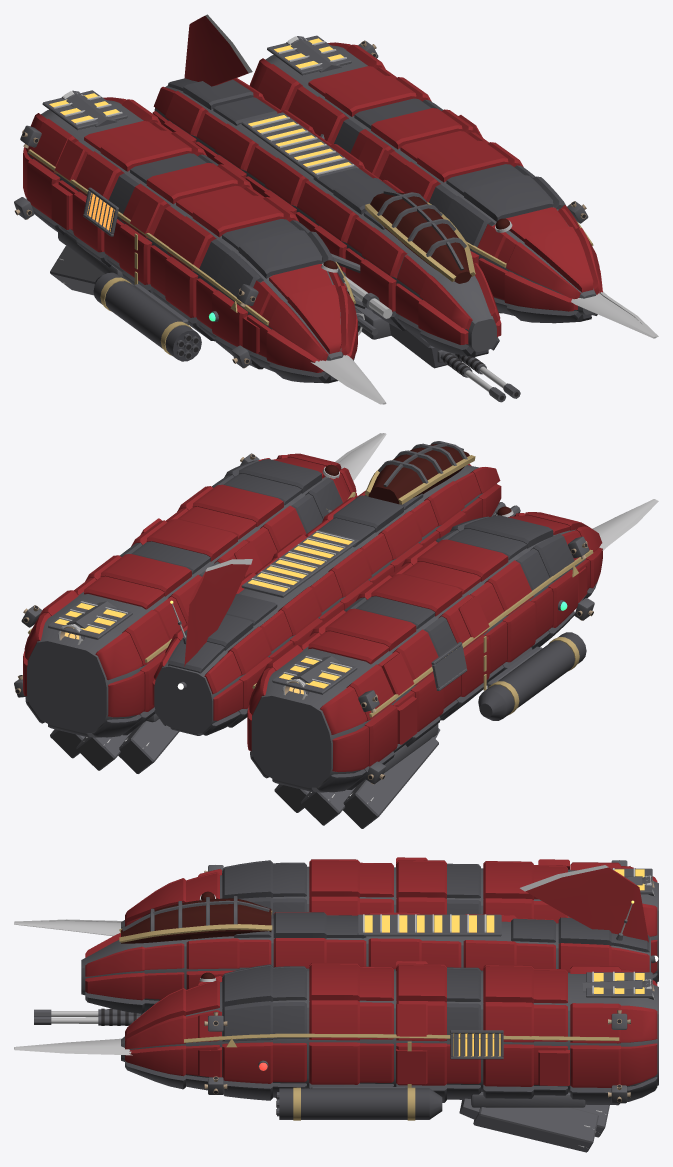
Rendered from enemy_fighter.glb.
3 renders of one model, top to bottom at view 1: azimuth 30°, elevation 25°; view 2: azimuth 150°, elevation 25°; view 3: azimuth 270°, elevation 25°, orthographic. The views are drawn at different scales.
Visible parts, largest first — view 1: enemy_fighter; view 2: enemy_fighter; view 3: enemy_fighter.
Part boxes in pixels (x1,y1,x2,y2): enemy_fighter: (14,14,658,404); enemy_fighter: (14,433,658,828); enemy_fighter: (14,857,658,1152).
Bounding box in the file's own units: 6.31 × 3.38 × 8.97.
